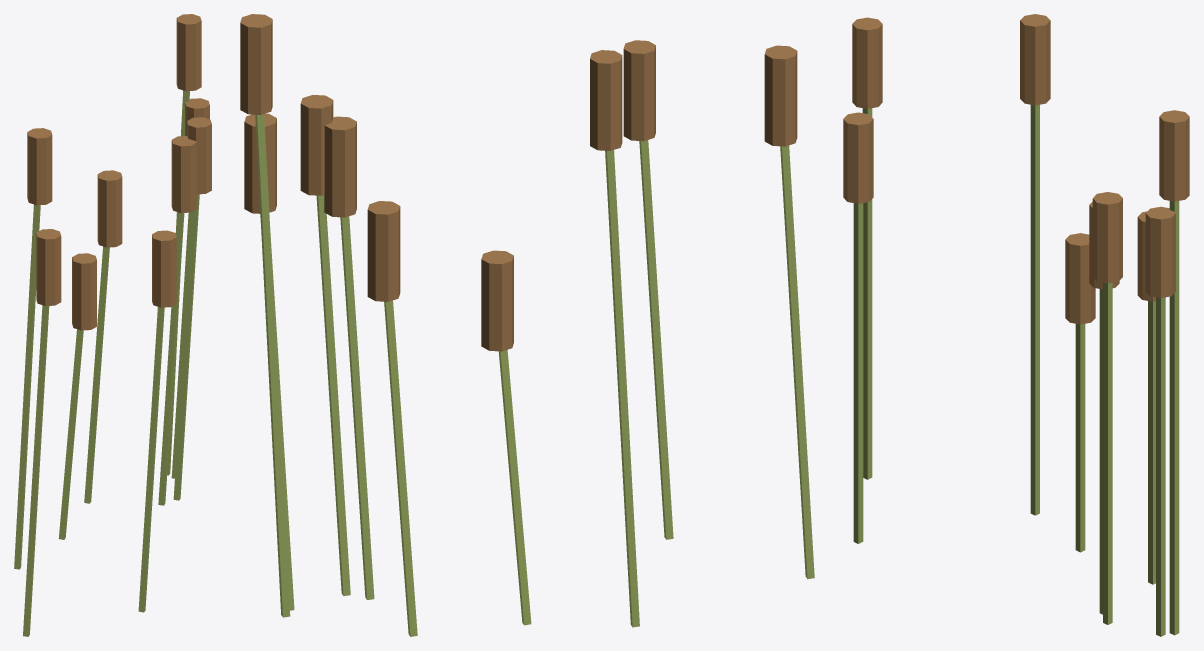
The model's file is foliage_reeds.glb.
The picture shows the model from 3 angles, left to right: view 1: azimuth 30°, elevation 25°; view 2: azimuth 150°, elevation 25°; view 3: azimuth 270°, elevation 25°; orthographic projection. The views are drawn at different scales.
Parts seen in each view (by area): view 1: foliage_reeds; view 2: foliage_reeds; view 3: foliage_reeds.
Part boxes in pixels (left/top/right/bottom): foliage_reeds: left=14, top=14, right=211, bottom=636; foliage_reeds: left=240, top=14, right=814, bottom=636; foliage_reeds: left=843, top=14, right=1189, bottom=636.
Size of the model in its own units: 0.9729 by 1.35 by 0.7987.
